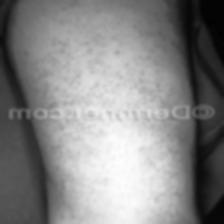Non-Cancerous Skin Condition: (82, 123, 153, 184)
